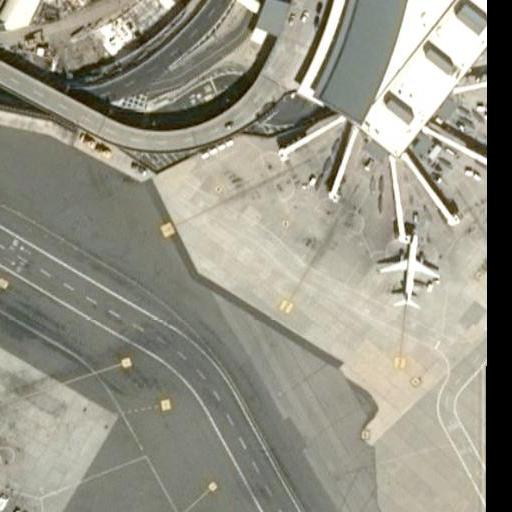Aircraft: (381, 225, 438, 308)
